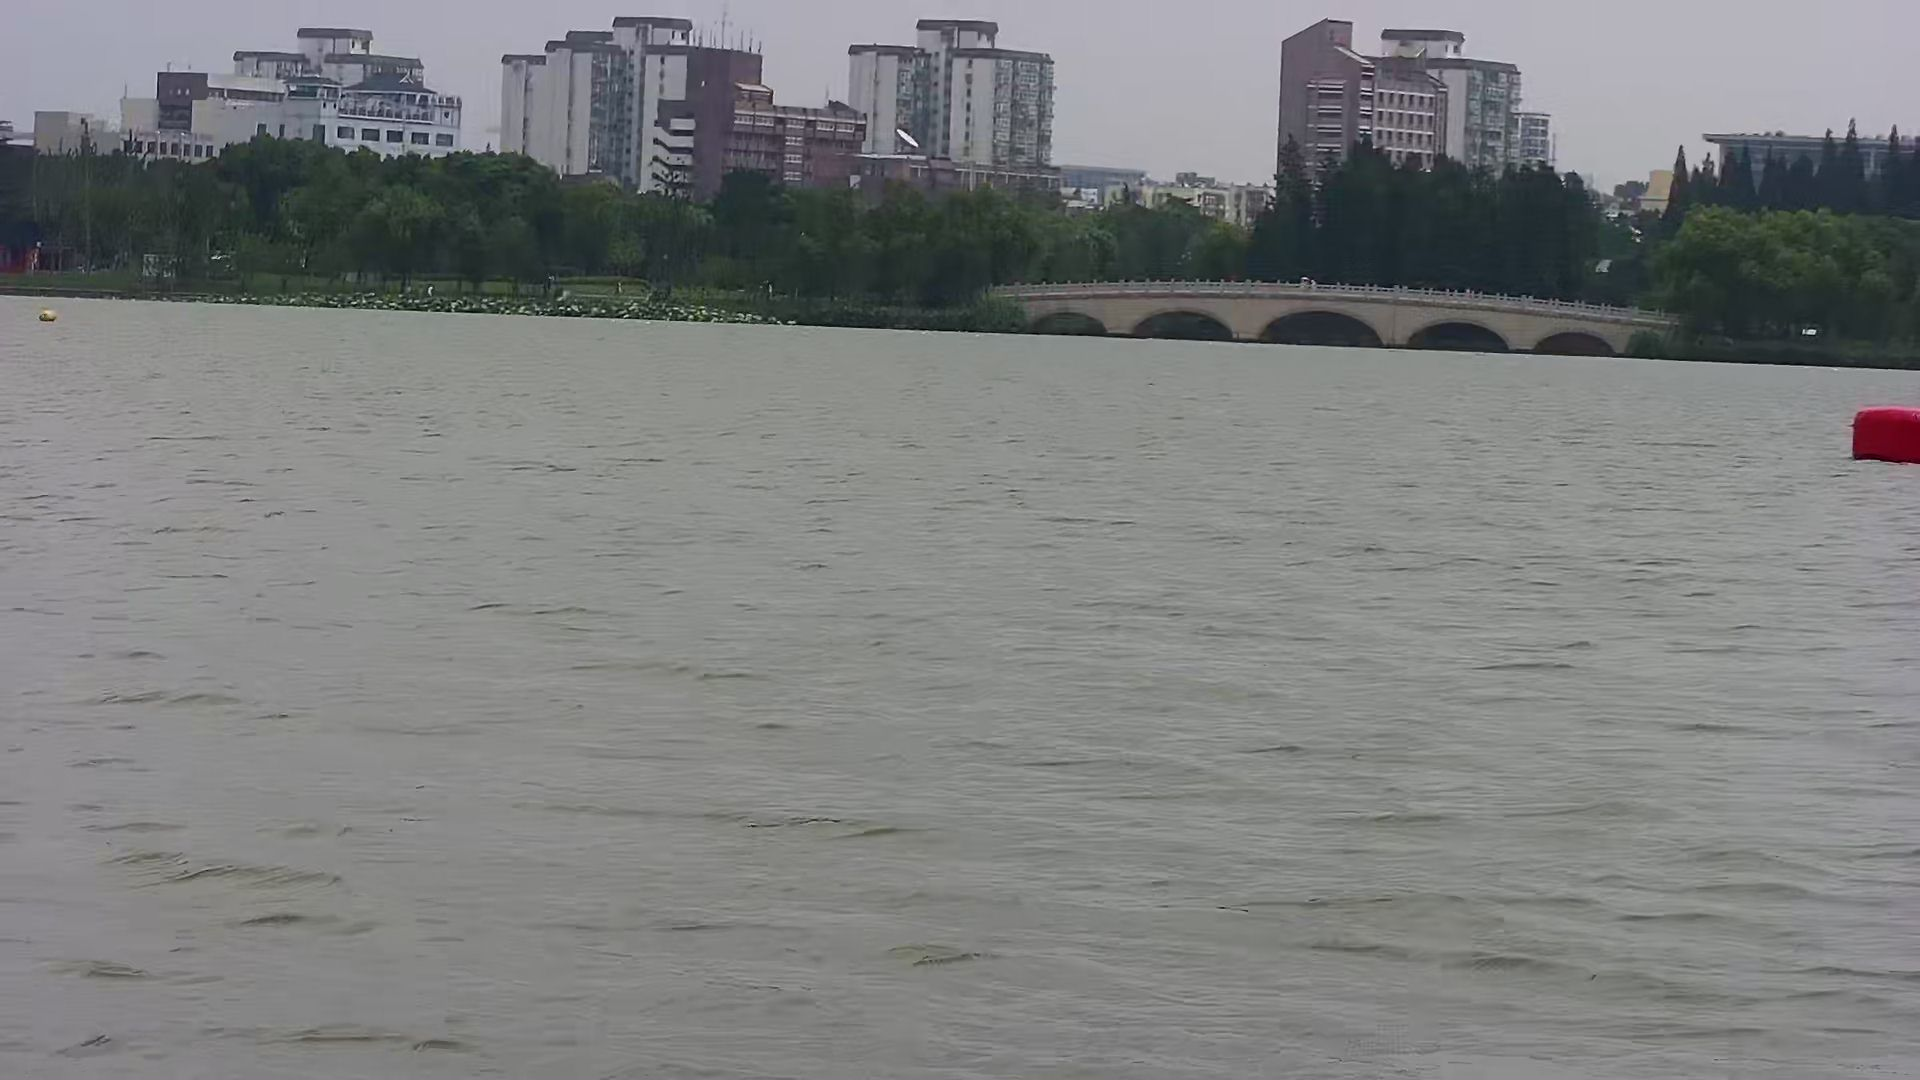bridge: (953, 260, 1702, 359)
rubbish: (1829, 390, 1920, 473), (29, 298, 69, 328)
